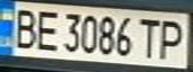0: (78, 11, 100, 55)
3: (57, 10, 81, 53)
6: (115, 14, 139, 57)
8: (97, 12, 118, 56)
B: (6, 4, 42, 51)
E: (33, 7, 60, 52)
P: (154, 16, 190, 61)
T: (133, 15, 163, 60)
